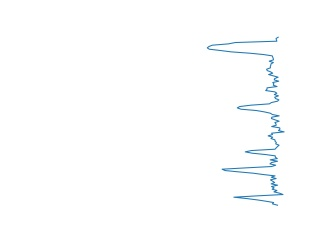distalBar: (204, 33, 283, 84)
interdistributaryEstuary: (233, 85, 286, 142)
underwaterNaturalLevee: (220, 144, 285, 208)
